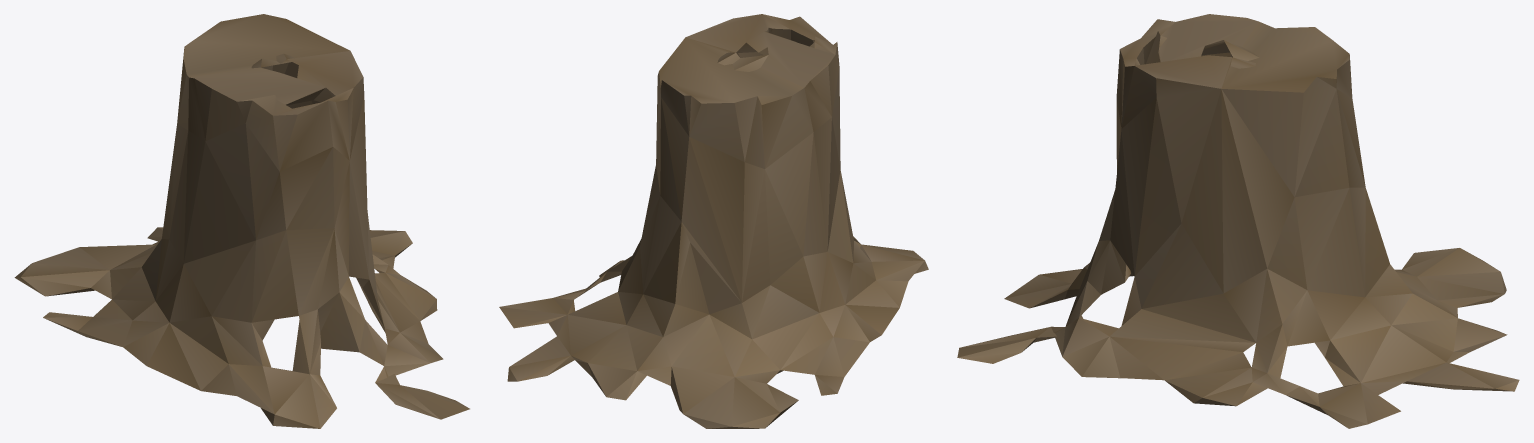
Rendered from rowan_stump.glb.
3 renders of one model, left to right at view 1: azimuth 30°, elevation 25°; view 2: azimuth 150°, elevation 25°; view 3: azimuth 270°, elevation 25°, orthographic. The views are drawn at different scales.
Visible parts, largest first — view 1: Stump; view 2: Stump; view 3: Stump.
Part boxes in pixels (x1,y1,x2,y2): Stump: (14,14,469,428); Stump: (499,14,928,428); Stump: (957,14,1519,428).
Bounding box in the file's own units: 0.9954 × 0.7319 × 1.3.
